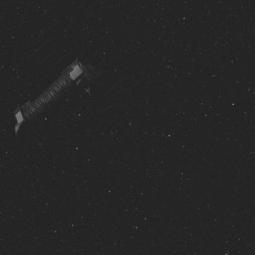xmm_newton: (8, 48, 117, 139)
